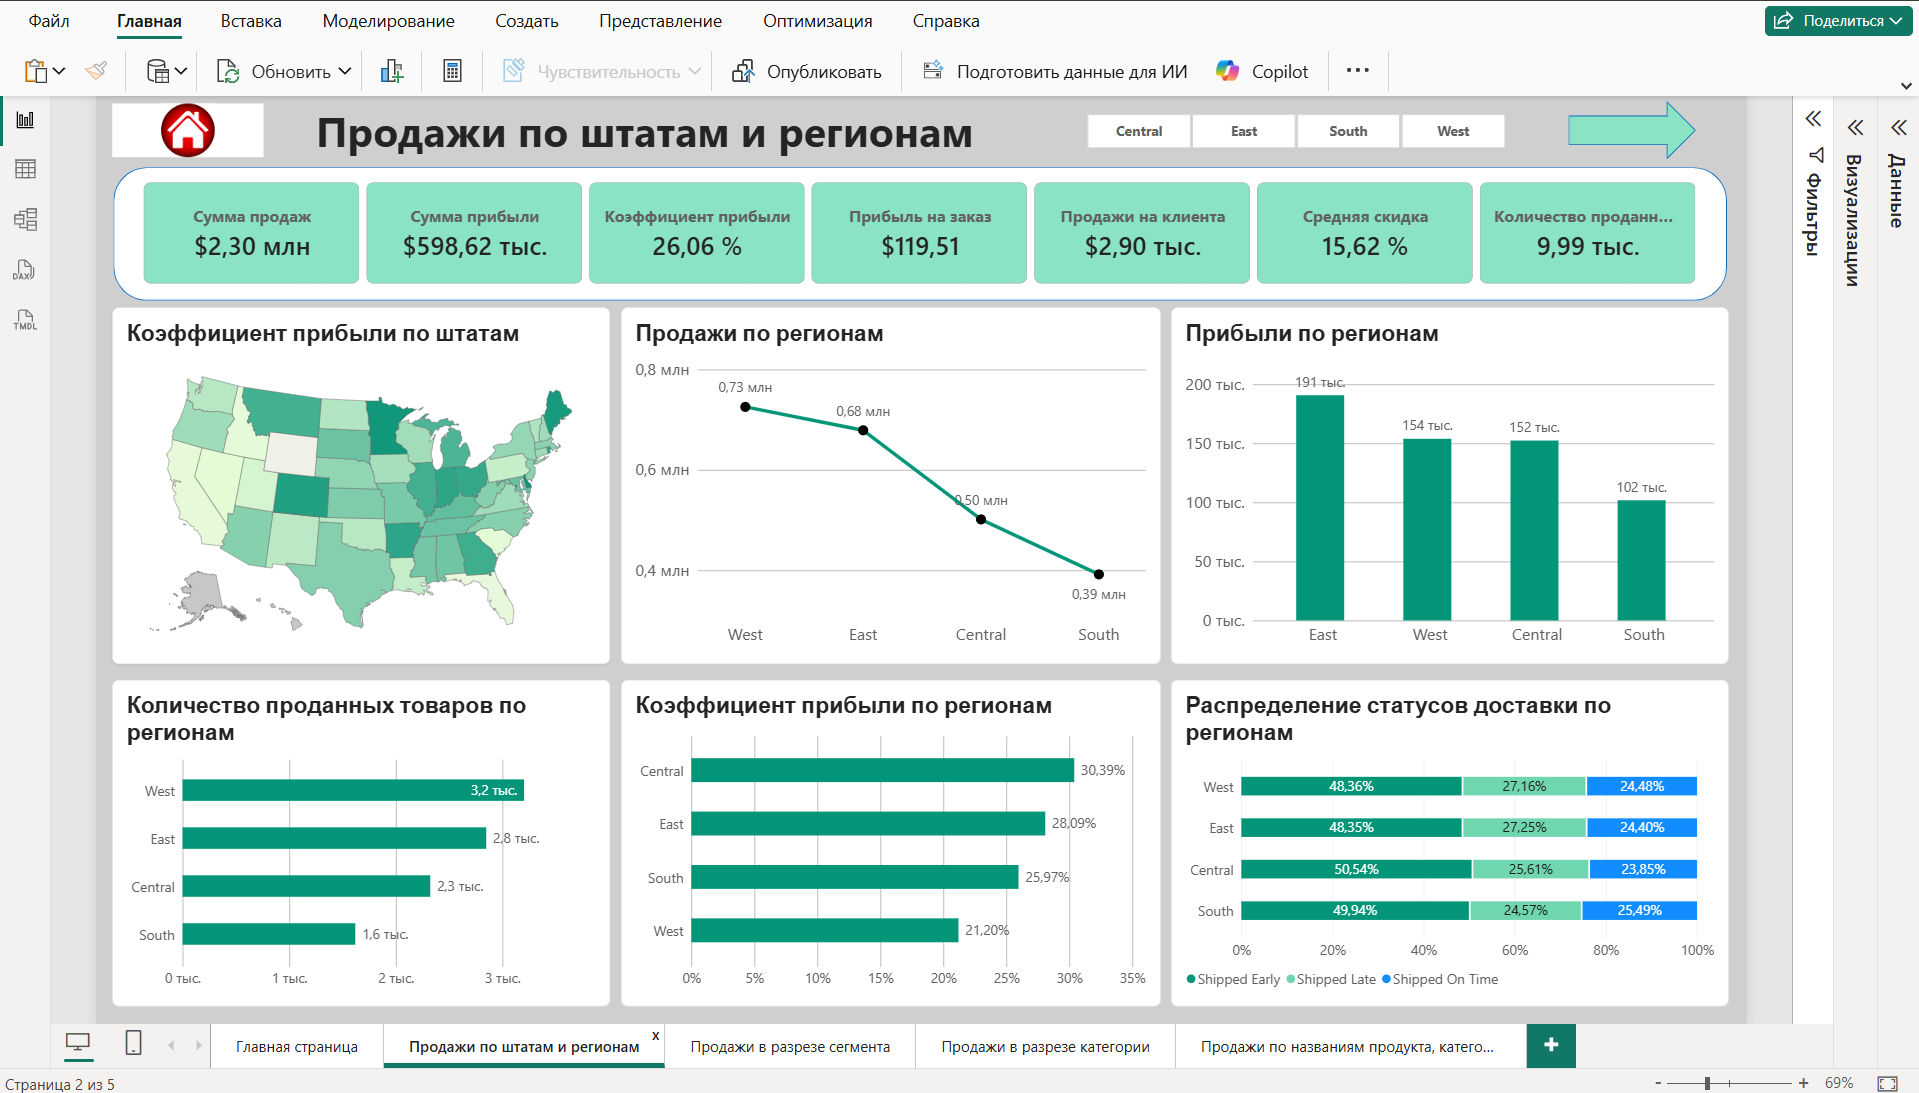

The dashboard page shown, as its layout file describes it:
{"tool":"powerbi","page":{"name":"Продажи по штатам и регионам","canvas":[1920,1080],"ordinal":1},"visuals":[{"type":"shape","box":[20.6,82.3,1876.7,155.2],"z":0},{"type":"cardVisual","fields":{"Data":["Меры.Сумма продаж","Меры.Сумма прибыли","Меры.Коефкоэффициент прибыли","Меры.прибыль на заказ","Меры.продажи на клиента","Меры.средняя скидка","CountNonNull(Sample - Superstore_Orders.Quantity)"]},"box":[55.6,100.9,1805.2,118.6],"z":1000},{"type":"textbox","box":[256.4,7,798.8,71.5],"z":2000},{"type":"slicer","title":"Категория","fields":{"Values":["Sample - Superstore_Orders.Region"]},"box":[1132,19.2,525,43.6],"z":3000},{"type":"shapeMap","title":"Коэффициент прибыли по штатам","fields":{"Value":["Меры.Коэффициент прибыли"],"Category":["Sample - Superstore_Orders.State"]},"box":[19.2,245.9,579.1,415.1],"z":4000},{"type":"lineChart","title":"Продажи по регионам","fields":{"Category":["Sample - Superstore_Orders.Region"],"Y":["Sum(Sample - Superstore_Orders.Sales)"]},"box":[610.5,245.9,627.9,415.1],"z":5000},{"type":"columnChart","title":"Прибыли по регионам","fields":{"Y":["Sum(Sample - Superstore_Orders.Profit)"],"Category":["Sample - Superstore_Orders.Region"]},"box":[1250.6,245.9,648.8,415.1],"z":6000},{"type":"barChart","title":"Количество проданных товаров по регионам","fields":{"Category":["Sample - Superstore_Orders.Region"],"Y":["CountNonNull(Sample - Superstore_Orders.Quantity)"]},"box":[19.2,678.5,579.1,380.2],"z":7000},{"type":"barChart","title":"Коэффициент прибыли по регионам","fields":{"Category":["Sample - Superstore_Orders.Region"],"Y":["Меры.Коэффициент прибыли"]},"box":[610.5,678.5,627.9,380.2],"z":8000},{"type":"hundredPercentStackedBarChart","title":"Распределение статусов доставки по регионам","fields":{"Category":["Sample - Superstore_Orders.Region"],"Series":["Sample - Superstore_Orders.Ship Status"],"Y":["CountNonNull(Sample - Superstore_Orders.Quantity)"]},"box":[1250.6,678.5,649,380],"z":9000},{"type":"image","title":"Главная страница","box":[19.2,8.7,176.2,62.8],"z":10000},{"type":"shape","box":[1712.8,5.2,148.3,68],"z":11000}]}

Visuals, with their boxes on the page's 1920x1080 design canvas (x1, y1, x2, y2). These are canvas units, not pixel positions in the 1919x1093 screenshot, which may show the page scaled, cropped or inside an application window:
shape: pyautogui.locateOnScreen(21, 82, 1897, 238)
cardVisual - Меры.Сумма продаж x Меры.Сумма прибыли: pyautogui.locateOnScreen(56, 101, 1861, 220)
textbox: pyautogui.locateOnScreen(256, 7, 1055, 78)
"Категория" slicer: pyautogui.locateOnScreen(1132, 19, 1657, 63)
"Коэффициент прибыли по штатам" shapeMap: pyautogui.locateOnScreen(19, 246, 598, 661)
"Продажи по регионам" lineChart: pyautogui.locateOnScreen(610, 246, 1238, 661)
"Прибыли по регионам" columnChart: pyautogui.locateOnScreen(1251, 246, 1899, 661)
"Количество проданных товаров по регионам" barChart: pyautogui.locateOnScreen(19, 678, 598, 1059)
"Коэффициент прибыли по регионам" barChart: pyautogui.locateOnScreen(610, 678, 1238, 1059)
"Распределение статусов доставки по регионам" hundredPercentStackedBarChart: pyautogui.locateOnScreen(1251, 678, 1900, 1058)
"Главная страница" image: pyautogui.locateOnScreen(19, 9, 195, 72)
shape: pyautogui.locateOnScreen(1713, 5, 1861, 73)
